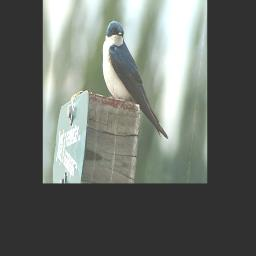Swallow: (95, 18, 180, 141)
